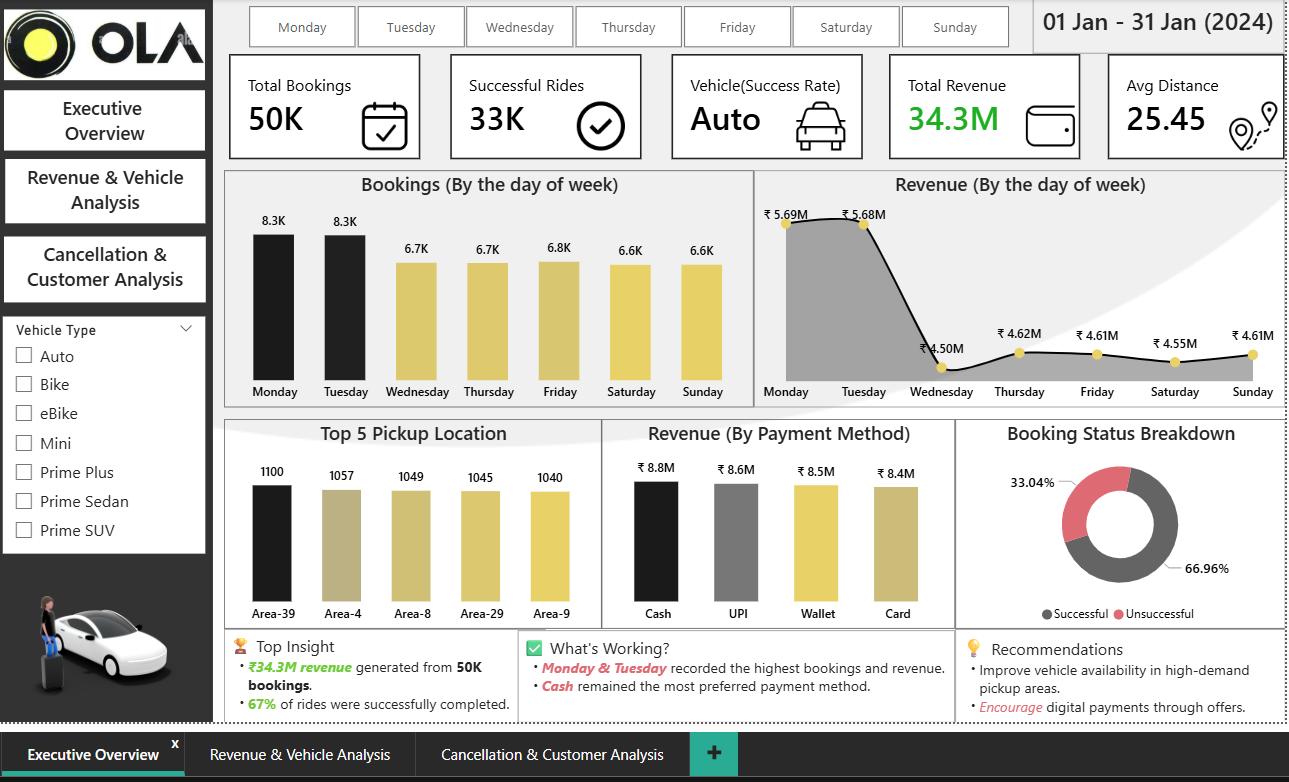

The page's visual inventory and layout, read from the dashboard file:
{"tool":"powerbi","page":{"name":"Executive Overview","canvas":[1280,720],"ordinal":1},"visuals":[{"type":"textbox","box":[1028.8,0,250,54.7],"z":0},{"type":"shape","box":[0,0,212.7,720.3],"z":1000},{"type":"cardVisual","fields":{"Data":["Bangaluru_ola.Total Bookings"]},"box":[228.9,54.7,190.3,104.5],"z":2000},{"type":"cardVisual","fields":{"Data":["Bangaluru_ola.Avg Ride Distance"]},"box":[1104,54.7,176,104.5],"z":3000},{"type":"cardVisual","fields":{"Data":["Bangaluru_ola.Revenue"]},"box":[886,54.7,190,104.5],"z":4000},{"type":"cardVisual","fields":{"Data":["Bangaluru_ola.Successful Rides"]},"box":[448.8,54.7,190,104.5],"z":5000},{"type":"clusteredColumnChart","title":"Bookings (By the day of week)","fields":{"Category":["Bangaluru_ola.day_name"],"Y":["Bangaluru_ola.Total Bookings"]},"box":[223.9,170.4,527.4,236.4],"z":6000},{"type":"lineChart","title":"Revenue (By the day of week) ","fields":{"Category":["Bangaluru_ola.day_name"],"Y":["Bangaluru_ola.Revenue"]},"box":[751.4,170.4,528.7,236.4],"z":7000},{"type":"textbox","box":[5,90.8,200.3,59.7],"z":8000},{"type":"image","box":[5,0,200,90.8],"z":9000},{"type":"actionButton","box":[3.4,236,202.1,65.5],"z":10000},{"type":"textbox","box":[6.2,159.2,199,64],"z":11000},{"type":"actionButton","box":[4.5,90.3,202.1,59.8],"z":12000},{"type":"textbox","box":[4.5,236,201,65.5],"z":13000},{"type":"actionButton","box":[6.8,160.3,202.1,63.2],"z":14000},{"type":"slicer","fields":{"Values":["Bangaluru_ola.day_name"]},"box":[222.7,0,806.1,54.7],"z":15000},{"type":"slicer","fields":{"Values":["Bangaluru_ola.vehicle_type"]},"box":[3.7,316,201.5,236.4],"z":16000},{"type":"cardVisual","fields":{"Data":["Min(Bangaluru_ola.vehicle_type)"]},"box":[669.3,54.7,190.3,104.5],"z":17000},{"type":"clusteredColumnChart","title":"Revenue (By Payment Method)","fields":{"Category":["Bangaluru_ola.payment_method"],"Y":["Bangaluru_ola.Revenue"]},"box":[599.6,418,352,209],"z":18000},{"type":"image","box":[357,102,53.5,48.5],"z":19000},{"type":"image","box":[788.7,102,58.5,48.5],"z":20000},{"type":"image","box":[571,102,56,48.5],"z":21000},{"type":"image","box":[1016.3,102,59.7,48.5],"z":22000},{"type":"image","box":[1217.8,102,61,48.5],"z":23000},{"type":"clusteredColumnChart","title":"Top 5 Pickup Location ","fields":{"Category":["Bangaluru_ola.pickup_location"],"Y":["Bangaluru_ola.Total Bookings"]},"box":[223.9,418,375.7,209],"z":24000},{"type":"image","box":[0,552.3,212.7,167.9],"z":25000},{"type":"donutChart","title":"Booking Status Breakdown","fields":{"Category":["Bangaluru_ola.Ride Status"],"Y":["Count(Bangaluru_ola.booking_id)"]},"box":[951.6,418,328.4,209],"z":26000},{"type":"textbox","box":[223.9,627,319.7,93.3],"z":27000},{"type":"textbox","box":[516.2,628.2,435.4,92.1],"z":28000},{"type":"textbox","box":[951.6,627,328.4,93.3],"z":29000}]}

Visuals, with their boxes on the page's 1280x720 design canvas (x1, y1, x2, y2). These are canvas units, not pixel positions in the 1289x782 screenshot, which may show the page scaled, cropped or inside an application window:
textbox: region(1029, 0, 1279, 55)
shape: region(0, 0, 213, 720)
cardVisual - Bangaluru_ola.Total Bookings: region(229, 55, 419, 159)
cardVisual - Bangaluru_ola.Avg Ride Distance: region(1104, 55, 1280, 159)
cardVisual - Bangaluru_ola.Revenue: region(886, 55, 1076, 159)
cardVisual - Bangaluru_ola.Successful Rides: region(449, 55, 639, 159)
"Bookings (By the day of week)" clusteredColumnChart: region(224, 170, 751, 407)
"Revenue (By the day of week) " lineChart: region(751, 170, 1280, 407)
textbox: region(5, 91, 205, 150)
image: region(5, 0, 205, 91)
actionButton: region(3, 236, 206, 302)
textbox: region(6, 159, 205, 223)
actionButton: region(4, 90, 207, 150)
textbox: region(4, 236, 206, 302)
actionButton: region(7, 160, 209, 224)
slicer - Bangaluru_ola.day_name: region(223, 0, 1029, 55)
slicer - Bangaluru_ola.vehicle_type: region(4, 316, 205, 552)
cardVisual - Min(Bangaluru_ola.vehicle_type): region(669, 55, 860, 159)
"Revenue (By Payment Method)" clusteredColumnChart: region(600, 418, 952, 627)
image: region(357, 102, 410, 150)
image: region(789, 102, 847, 150)
image: region(571, 102, 627, 150)
image: region(1016, 102, 1076, 150)
image: region(1218, 102, 1279, 150)
"Top 5 Pickup Location " clusteredColumnChart: region(224, 418, 600, 627)
image: region(0, 552, 213, 720)
"Booking Status Breakdown" donutChart: region(952, 418, 1280, 627)
textbox: region(224, 627, 544, 720)
textbox: region(516, 628, 952, 720)
textbox: region(952, 627, 1280, 720)
